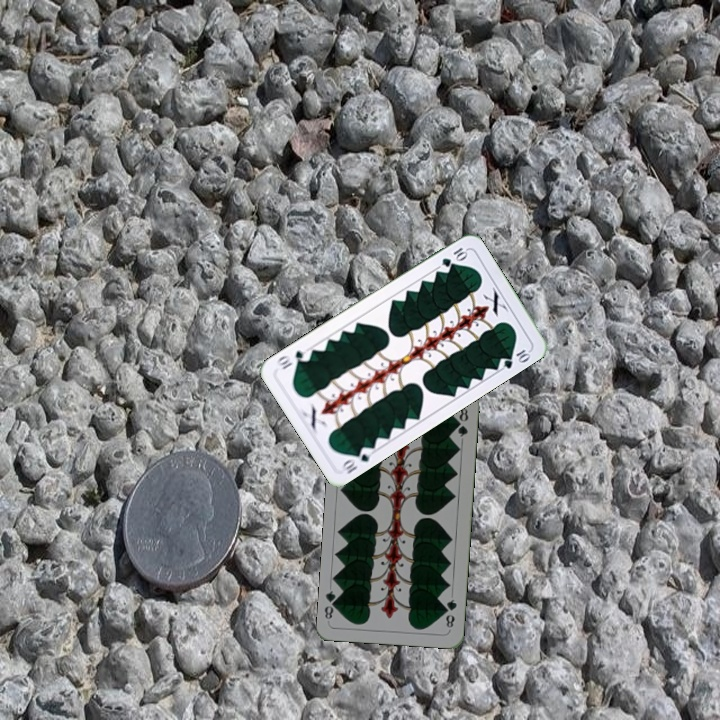G10: (337, 442, 376, 477), (438, 243, 470, 270)
G8: (441, 595, 459, 630)
